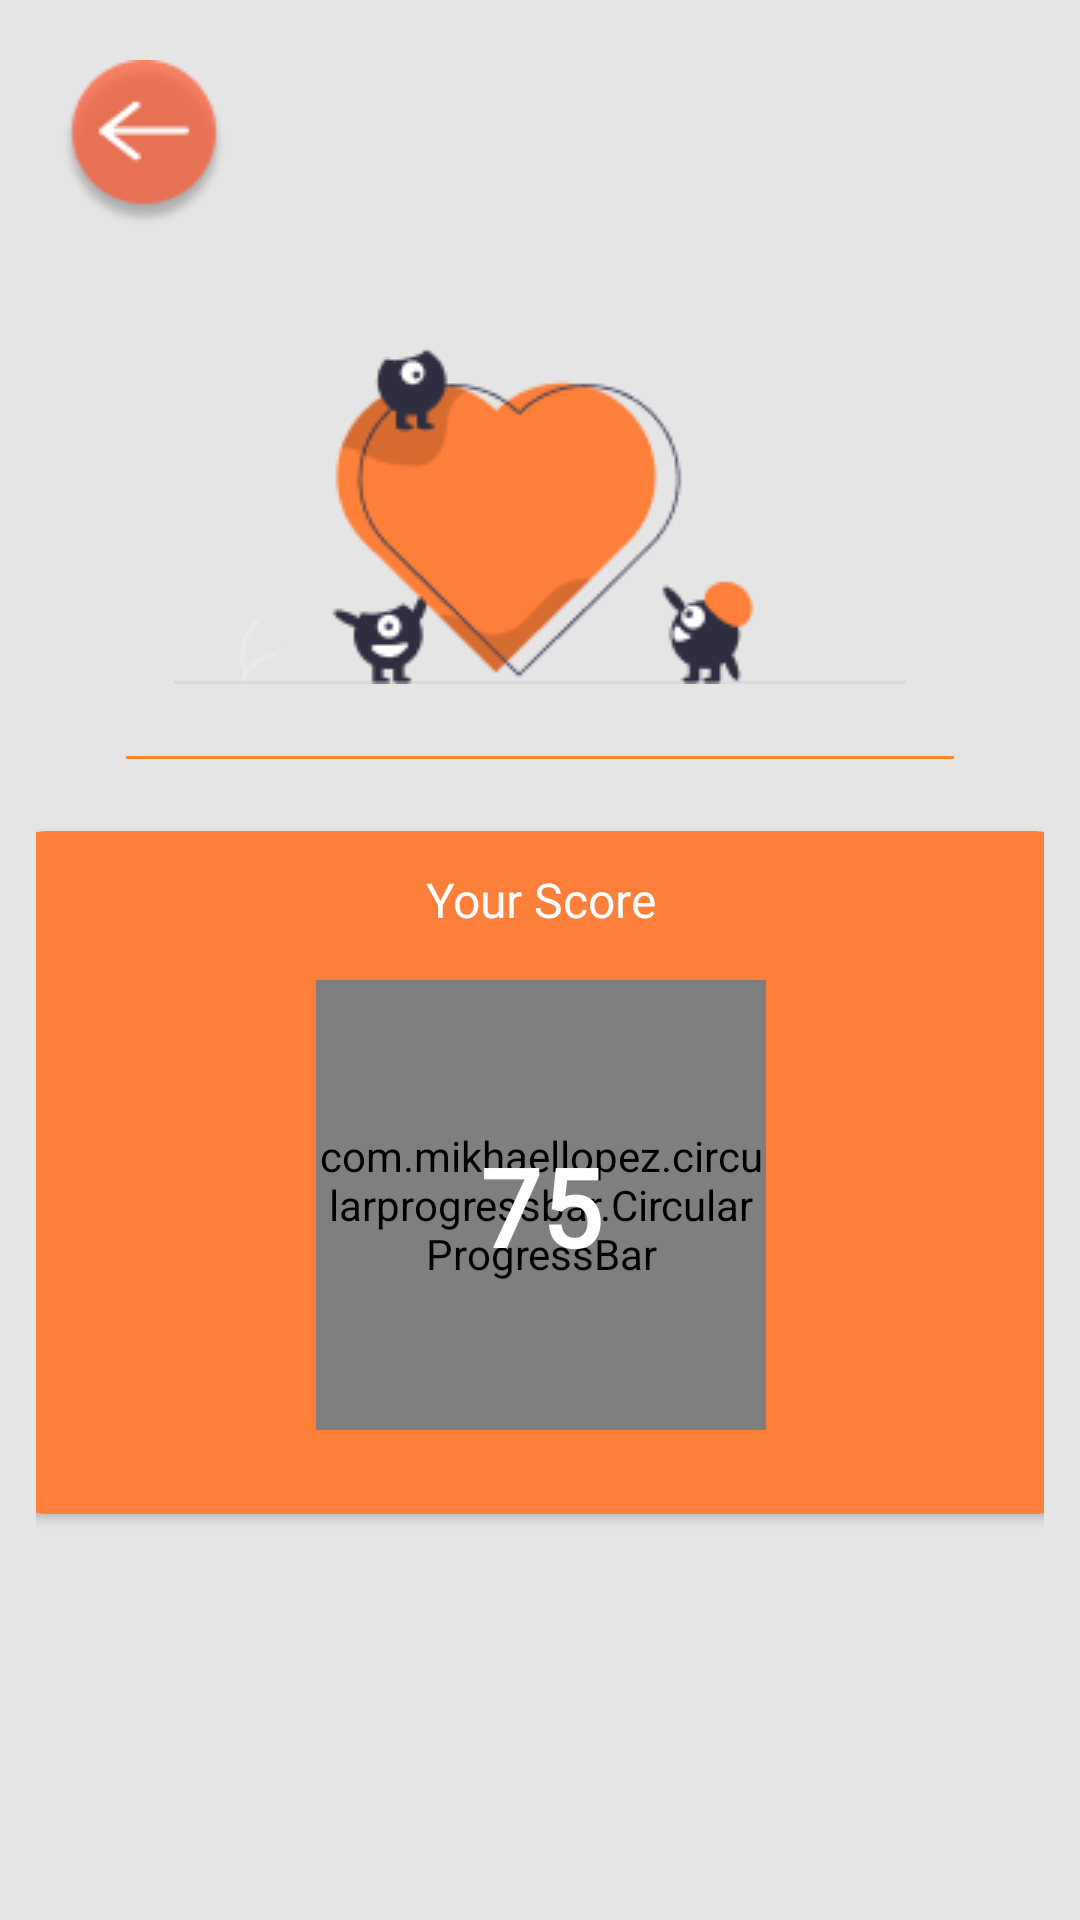

Named icons in this screenshot (1080w x 1920h) and their bounding boxes, (x1, y1, x2, y2):
Back Button: (71, 60, 217, 217)
